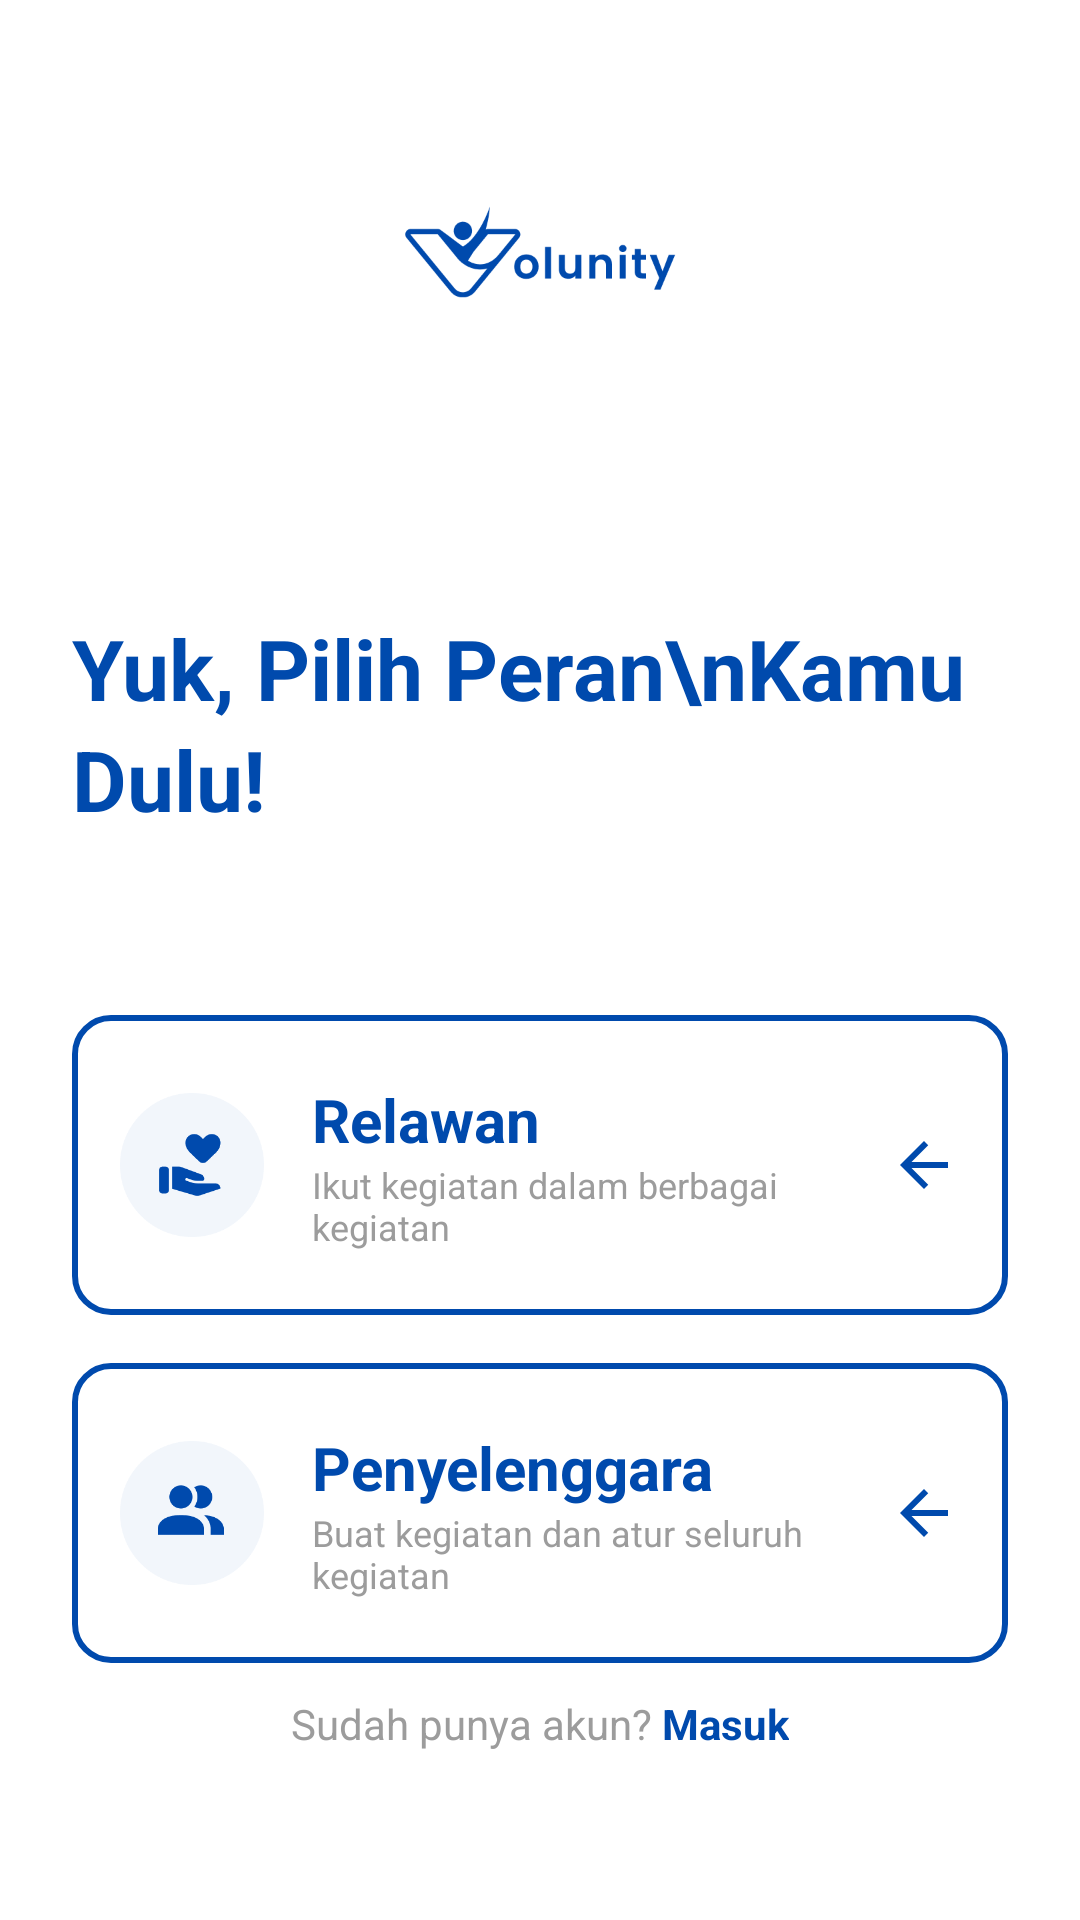

Locate icon controls on the screen. Image size 1080x1920, boxes as (x1, y1, x2, y2).
Organizer Icon: (158, 1485, 224, 1535)
Volunteer Icon: (120, 1093, 264, 1237)
